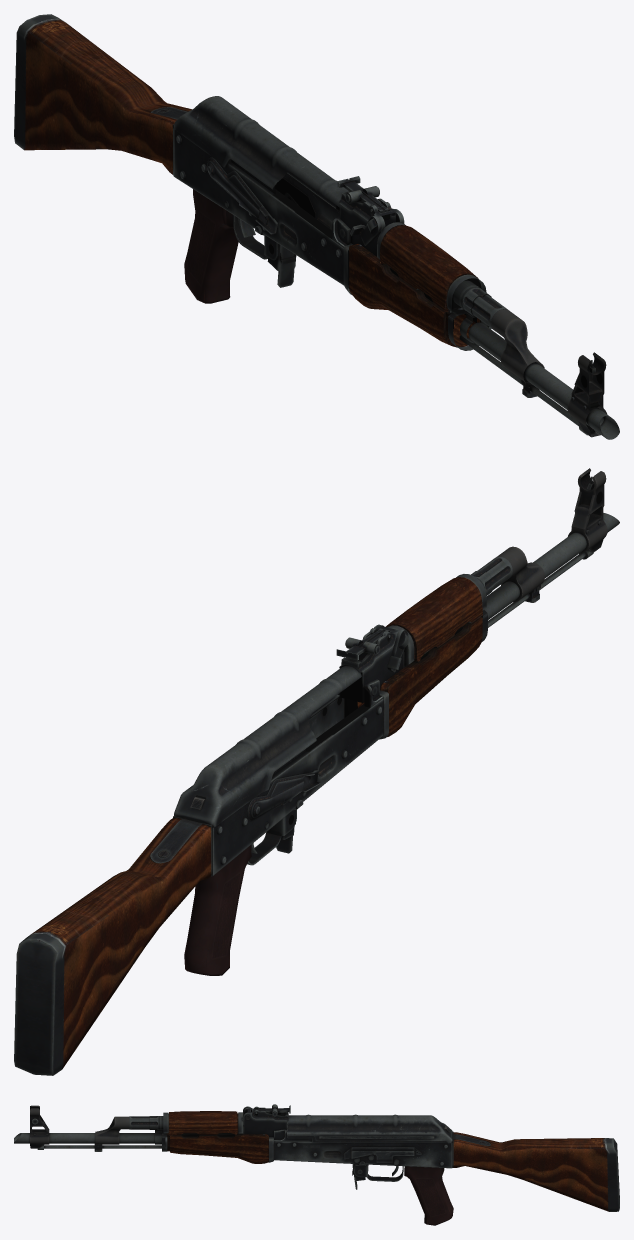
3 renders of one model, top to bottom at view 1: azimuth 30°, elevation 25°; view 2: azimuth 150°, elevation 25°; view 3: azimuth 270°, elevation 25°, orthographic. The views are drawn at different scales.
Visible parts, largest first — view 1: weapon; view 2: weapon; view 3: weapon.
Part boxes in pixels (x1=…): weapon: x1=14, y1=14, x2=619, y2=439; weapon: x1=14, y1=468, x2=619, y2=1075; weapon: x1=14, y1=1104, x2=619, y2=1225.
Bounding box in the file's own units: 1.94 × 7.94 × 37.75.
